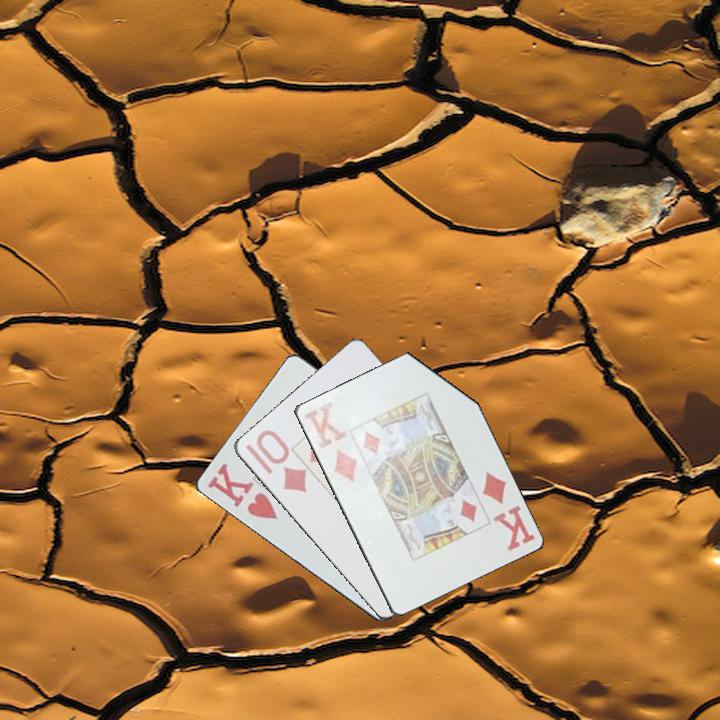Kd: (301, 398, 360, 485), (478, 467, 537, 554)
Kh: (203, 459, 281, 523)
Td: (241, 426, 310, 496)
